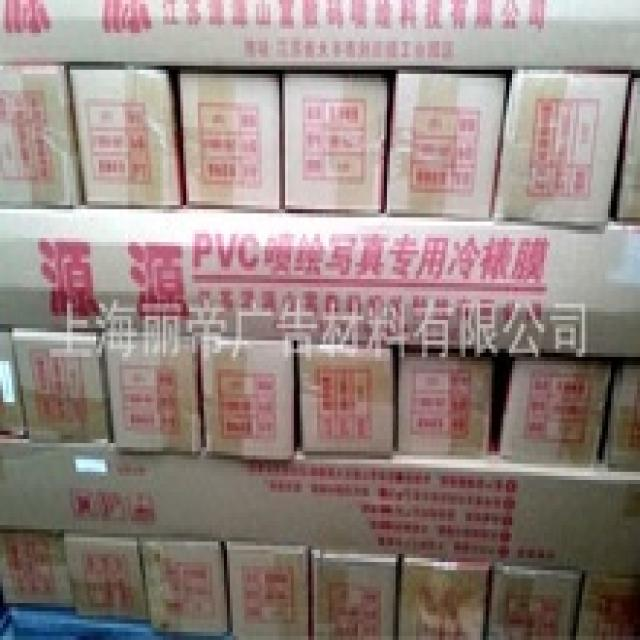box: (491, 73, 627, 229), (384, 75, 511, 219), (70, 67, 186, 210), (281, 77, 389, 212), (181, 73, 279, 212), (498, 358, 611, 464), (201, 338, 295, 458), (10, 329, 108, 443), (103, 337, 202, 449), (297, 344, 394, 454), (398, 352, 492, 455), (139, 538, 229, 636), (224, 545, 309, 636), (311, 549, 398, 636), (398, 555, 489, 636), (63, 536, 148, 620), (488, 561, 582, 636), (0, 529, 72, 606), (576, 572, 637, 636), (601, 361, 637, 468), (612, 78, 637, 217)
